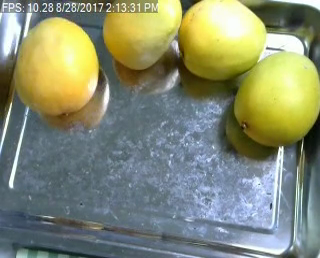Mango: (233, 51, 320, 146), (16, 17, 95, 113), (180, 0, 266, 79), (102, 0, 180, 68)
